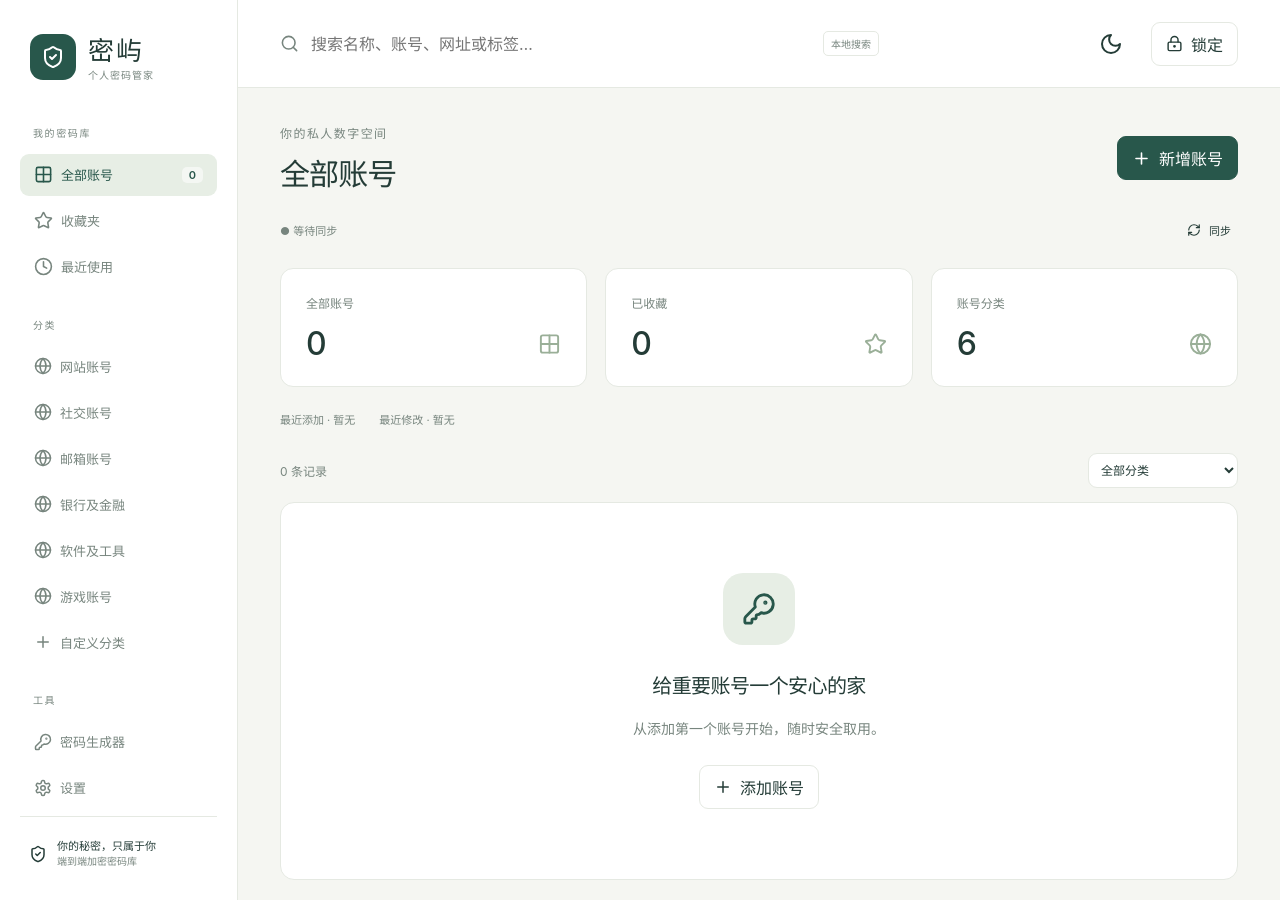
Scenario: restores after reopening, but manual lock revokes trust without signing out
What coordinates should you click on to do the following:
click the button with aria-label "锁定密码库"
I would click on:
 (1194, 44)
Its box is 1151,22 -> 1238,66.
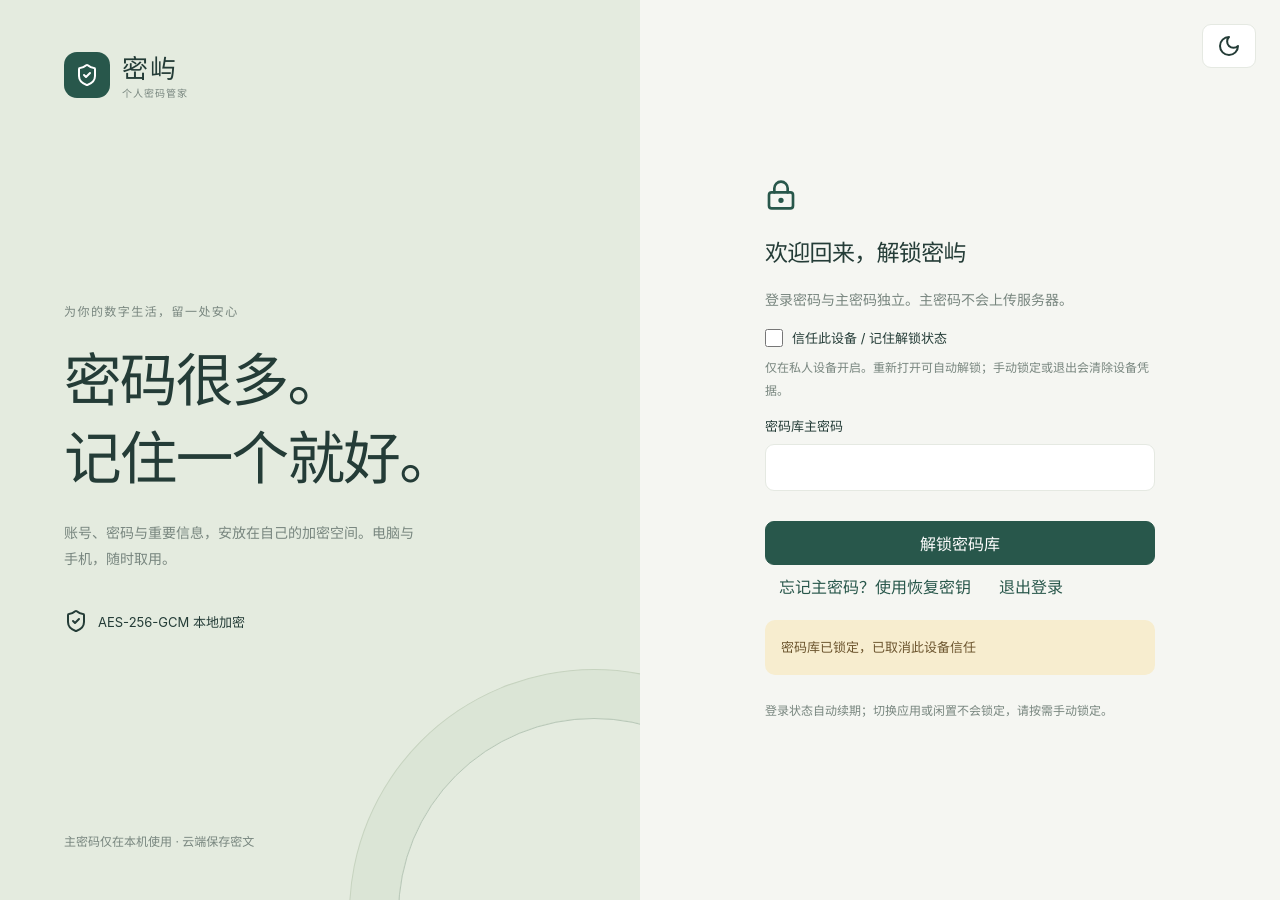
Expected: the password field labelled "密码库主密码" is shown, 765,444 -> 1155,491
